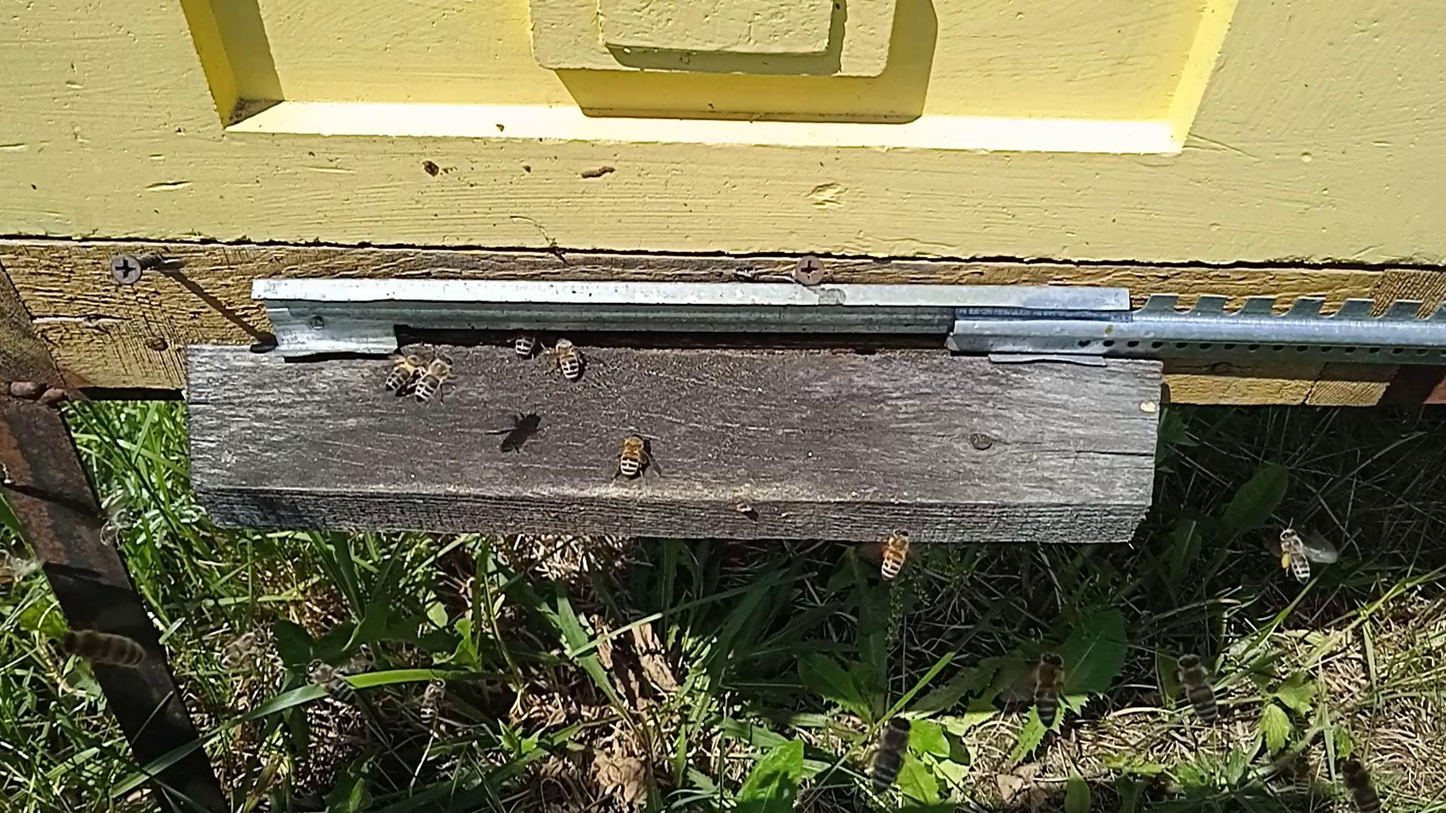worker-bee: (62, 627, 150, 672), (869, 714, 914, 793), (1176, 653, 1219, 726), (1338, 757, 1383, 813), (1033, 650, 1065, 725), (217, 629, 267, 671), (415, 353, 456, 402), (306, 659, 354, 699), (1279, 528, 1312, 584), (880, 527, 912, 581), (616, 430, 650, 478), (550, 336, 585, 382), (98, 509, 140, 547), (418, 678, 447, 729), (385, 355, 423, 391), (1, 543, 20, 601), (1292, 753, 1314, 798), (510, 329, 541, 358)
